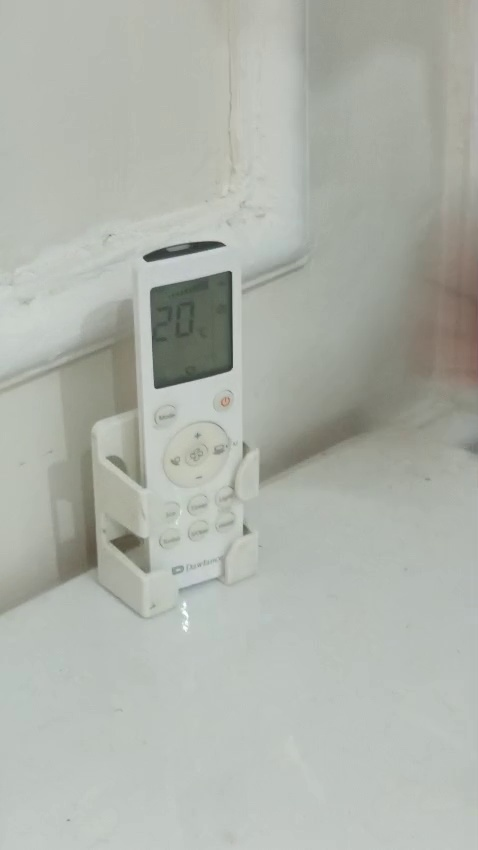remote: (113, 249, 283, 604)
